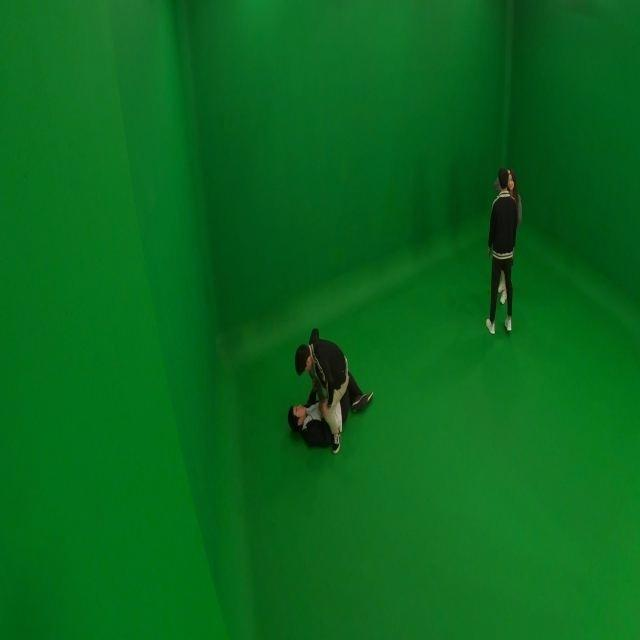fight: (284, 326, 374, 455)
non-fight: (484, 166, 520, 337)
